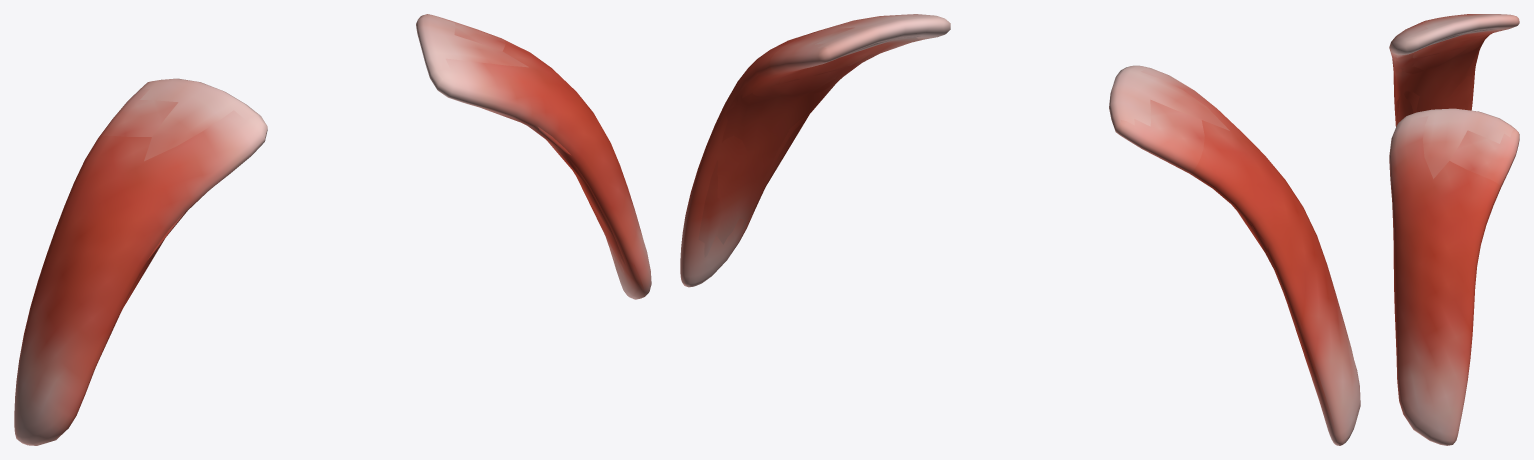
Rendered from frontoscutulartis.fbx.
The picture shows the model from 3 angles, left to right: view 1: azimuth 30°, elevation 25°; view 2: azimuth 150°, elevation 25°; view 3: azimuth 270°, elevation 25°; orthographic projection. The views are drawn at different scales.
Visible parts, largest first — view 1: frontoscutulartis, frontoscutulartis low; view 2: frontoscutulartis, frontoscutulartis low; view 3: frontoscutulartis, frontoscutulartis low.
Part boxes in pixels (<box>): frontoscutulartis: <box>14,14,651,445</box>; frontoscutulartis low: <box>93,108,625,370</box>; frontoscutulartis: <box>680,14,1360,445</box>; frontoscutulartis low: <box>698,36,1317,396</box>; frontoscutulartis: <box>1389,14,1519,445</box>; frontoscutulartis low: <box>1392,29,1496,124</box>.
Bounding box in the file's own units: 20.42 × 9.46 × 4.4.
Materials: 1 (1 with a texture image).
